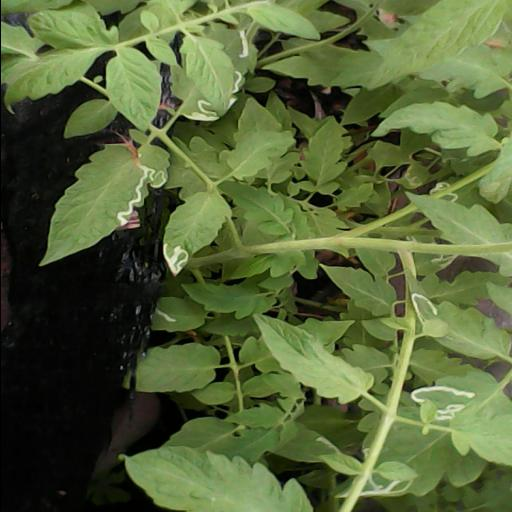disease_tomato: (36, 144, 168, 266), (162, 188, 232, 276)
